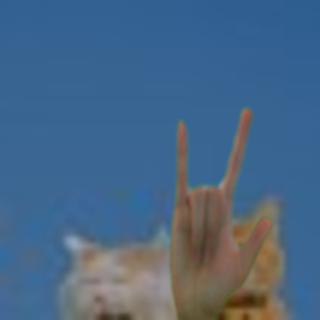ILY: (161, 103, 276, 314)
